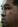without_mask: (1, 2, 18, 27)
